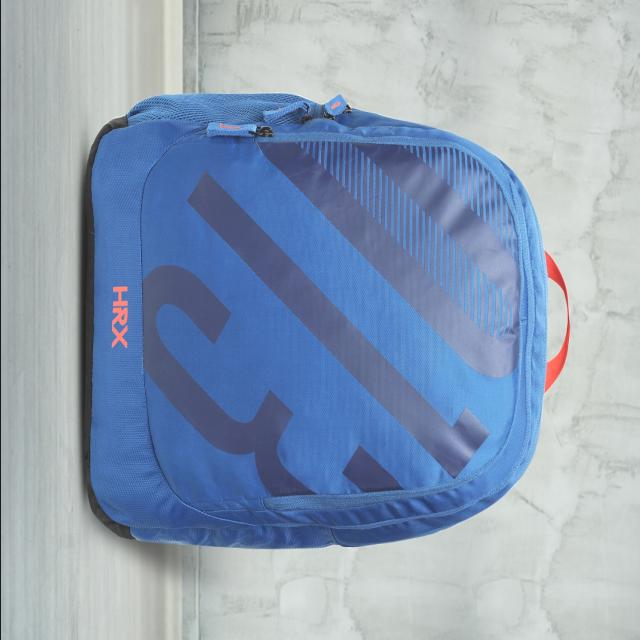backpack: (83, 93, 571, 551)
